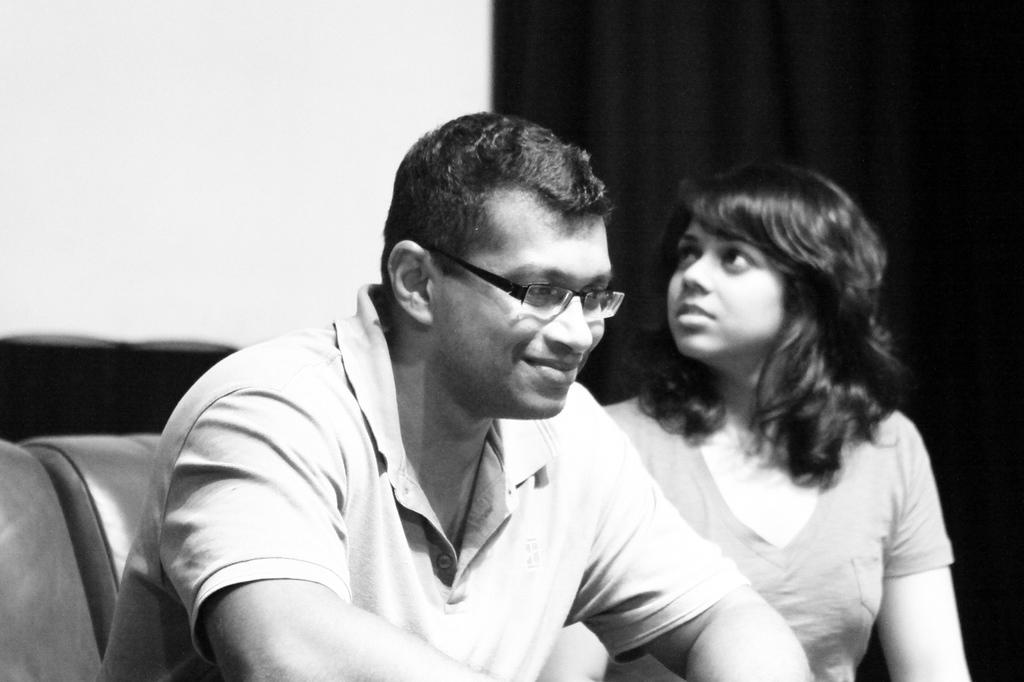Sem Máscara: (424, 184, 621, 412), (663, 222, 786, 357)
